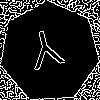Y: (25, 27, 68, 80)
